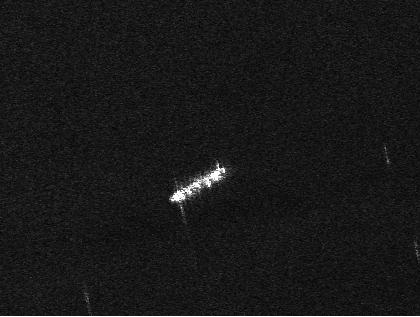ship: (167, 166, 231, 204)
